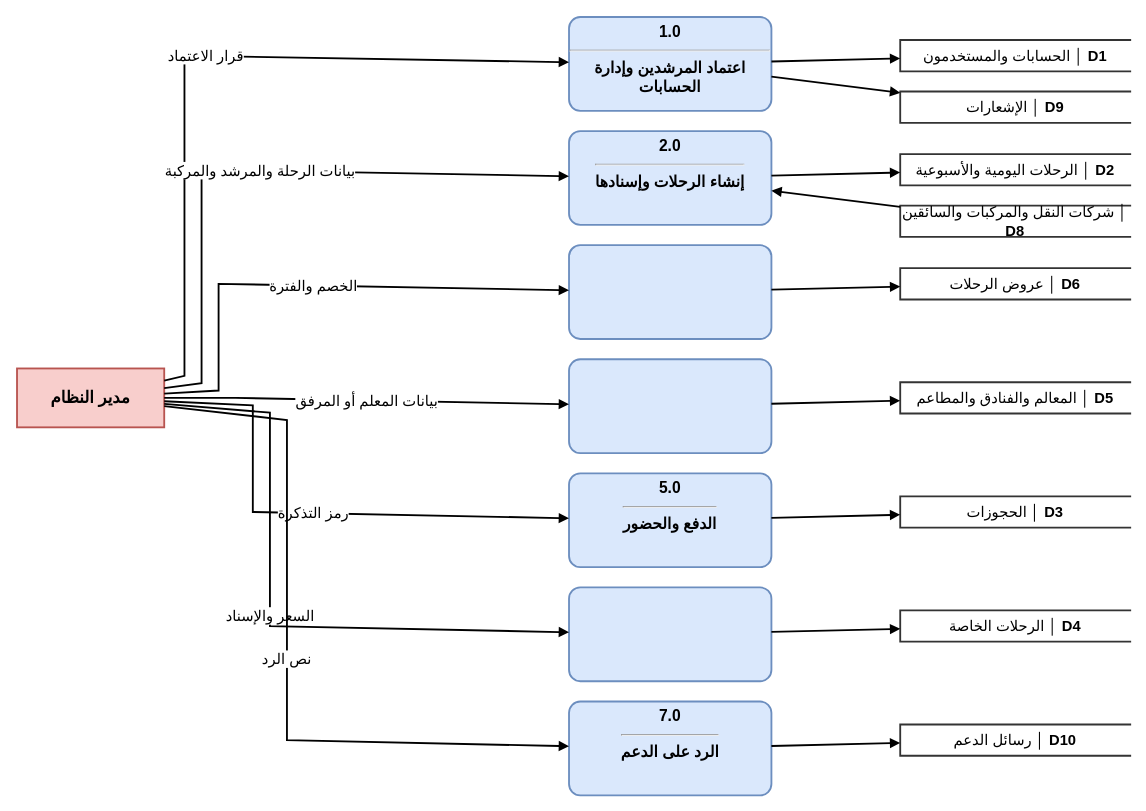
The diagram is 1146 pixels wide and 811 high, and some of its shapes have lost their labels. The shapes that lost their labels are listed below. From the top down, each one's centre as x and y in pixels, then its label:
At (x=670, y=291): "3.0 إدارة العروض".
At (x=670, y=406): "4.0 إدارة المعالم والمرافق".
At (x=670, y=634): "6.0 تسعير الرحلات الخاصة".
